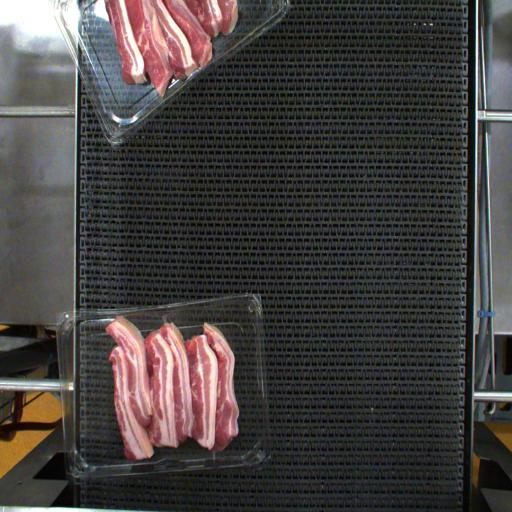packaging-error: (152, 306, 176, 330), (104, 308, 126, 330)
